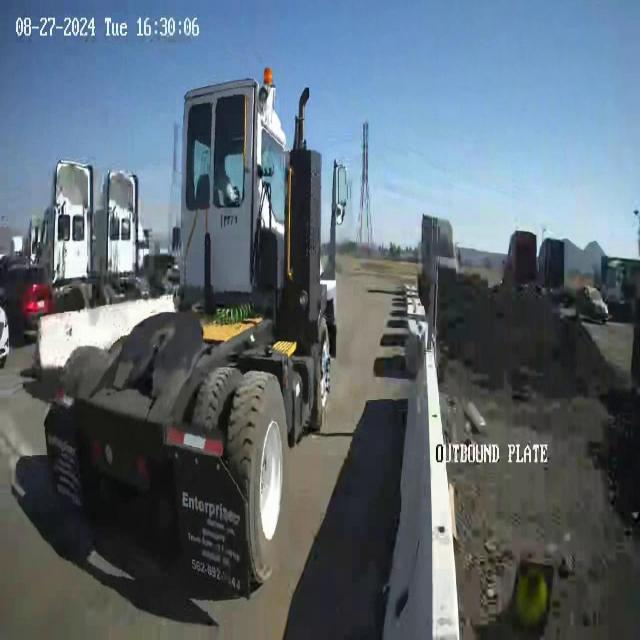TRUCK_IN: (33, 67, 348, 601)
